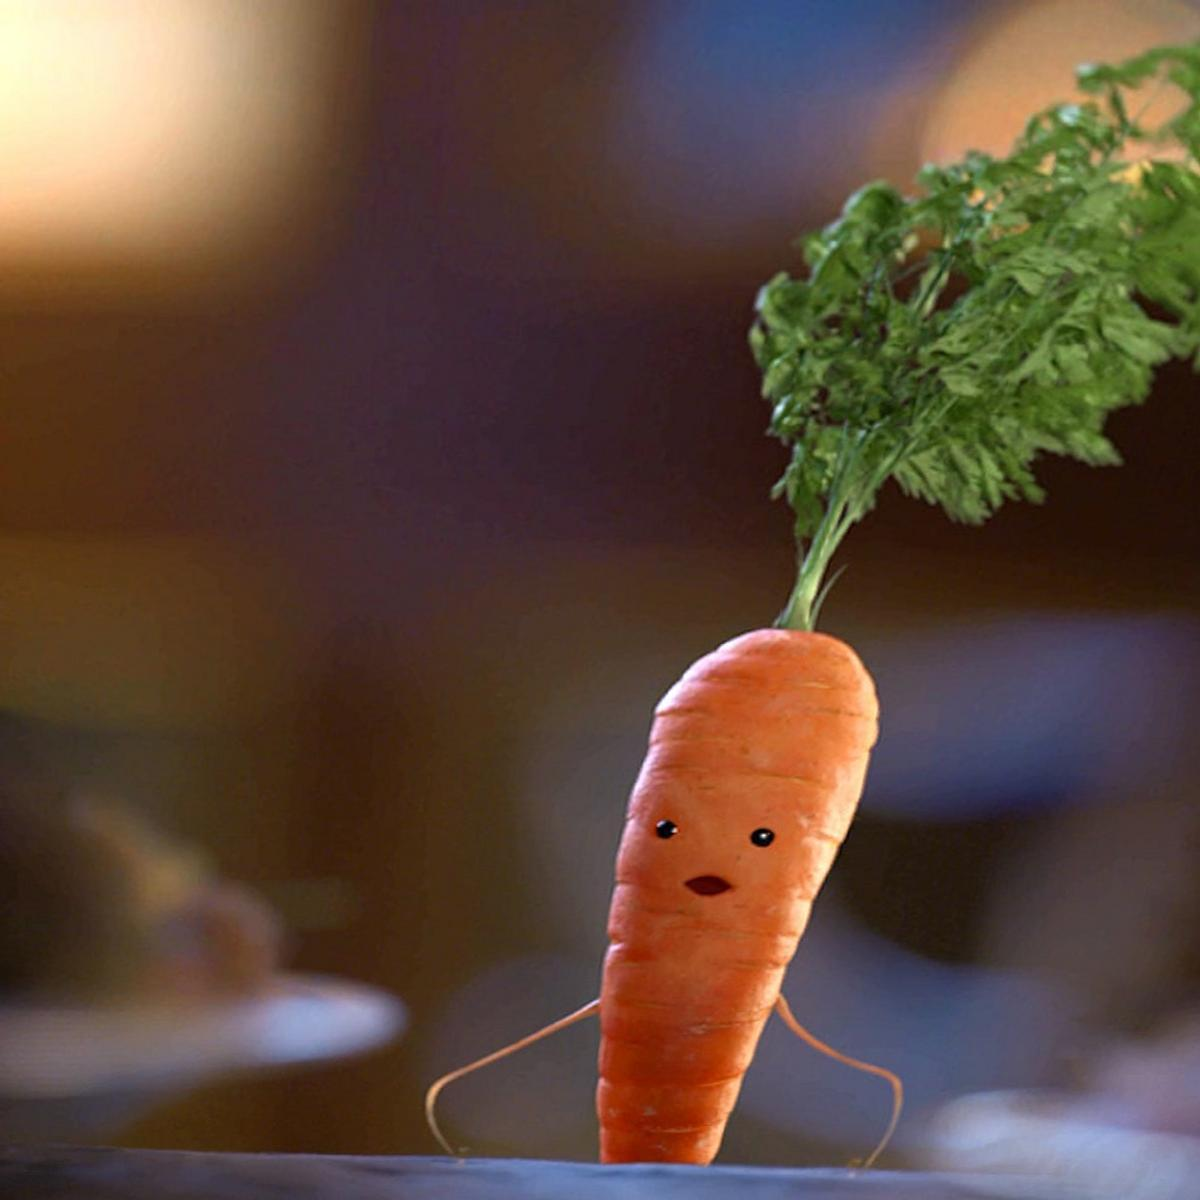carrot: (585, 548, 878, 1200)
